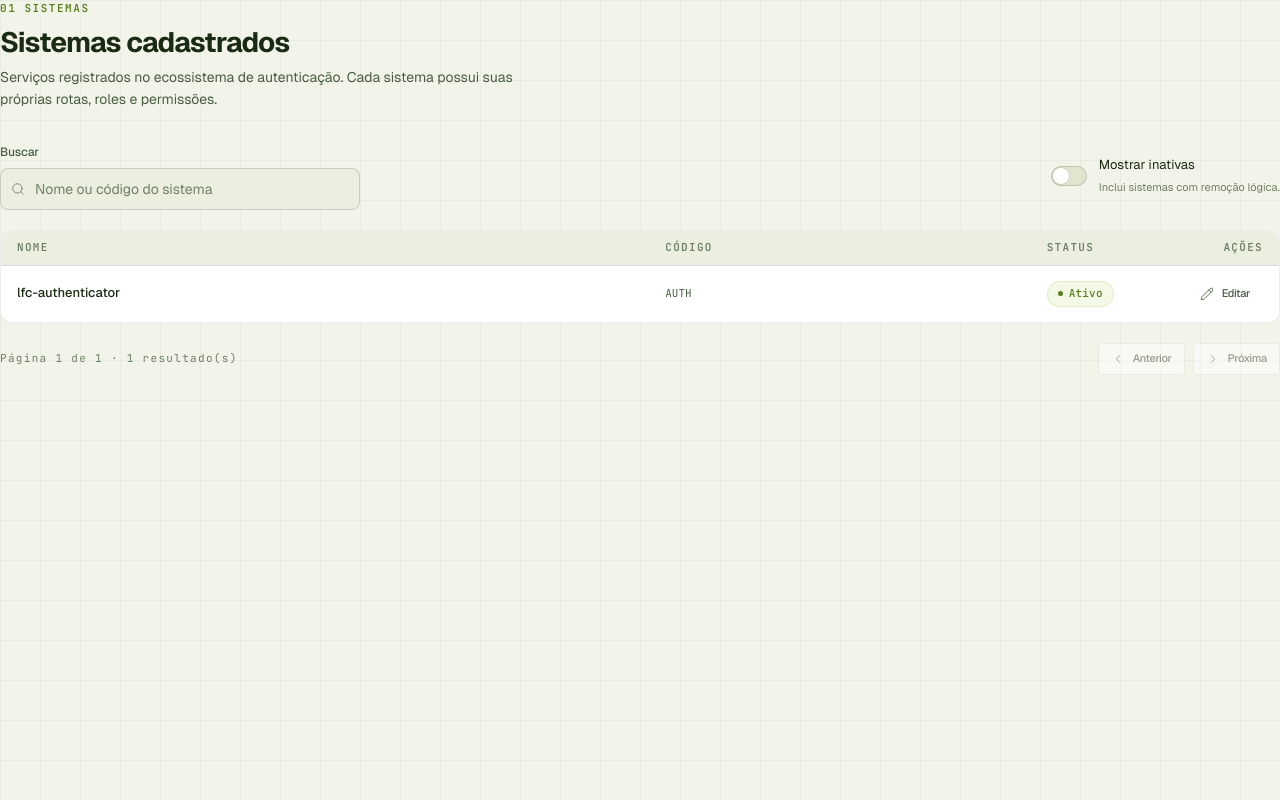
Scenario: SystemsPage — edição (Issue #59) › abertura e pré-preenchimento do modal › clicar em "Editar" abre o diálogo pré-populado com os dados do sistema
Step 1. Click the button "Editar" → {"x": 1225, "y": 294}, box [1187,278,1263,310]
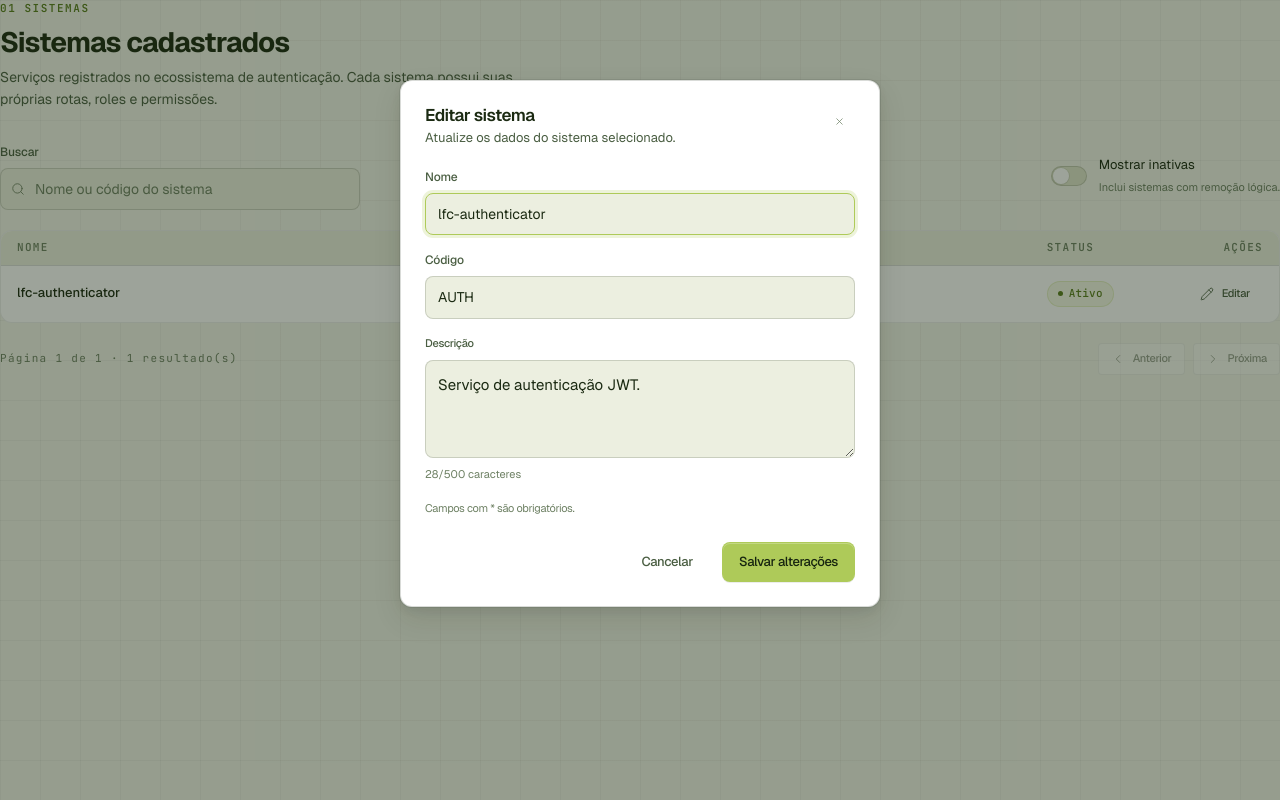
Expected: the dialog is shown, [400,80,880,606]
Expected: the field with test id "edit-system-name" holds "lfc-authenticator", [425,193,855,235]
Expected: the field with test id "edit-system-code" holds "AUTH", [425,276,855,319]
